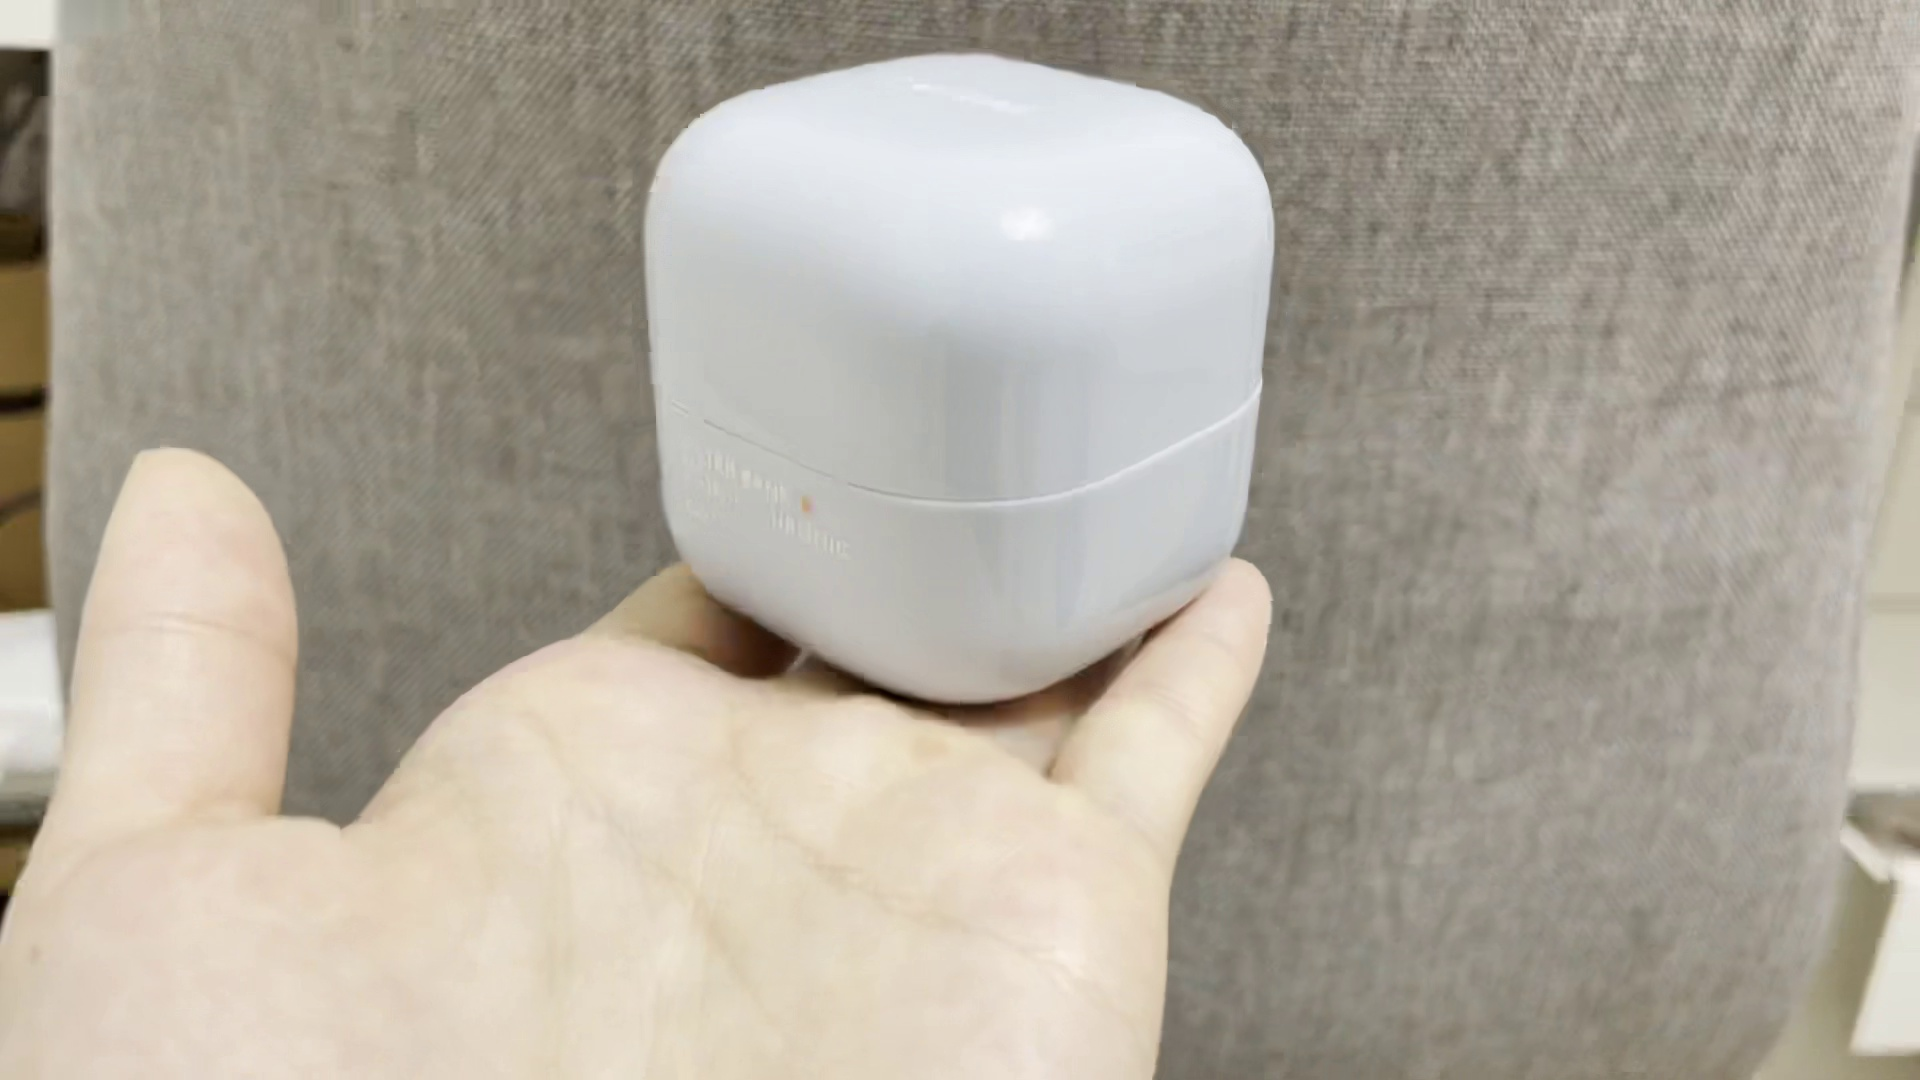cream: (646, 51, 1273, 698)
